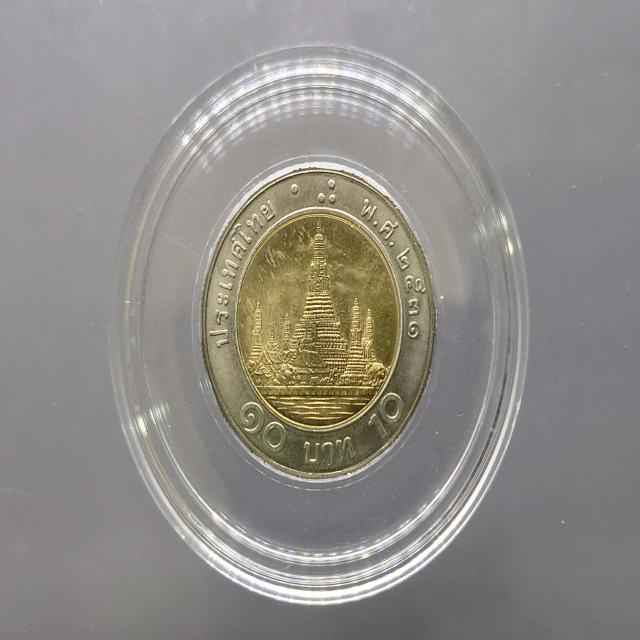10 Bath: (198, 162, 440, 486)
